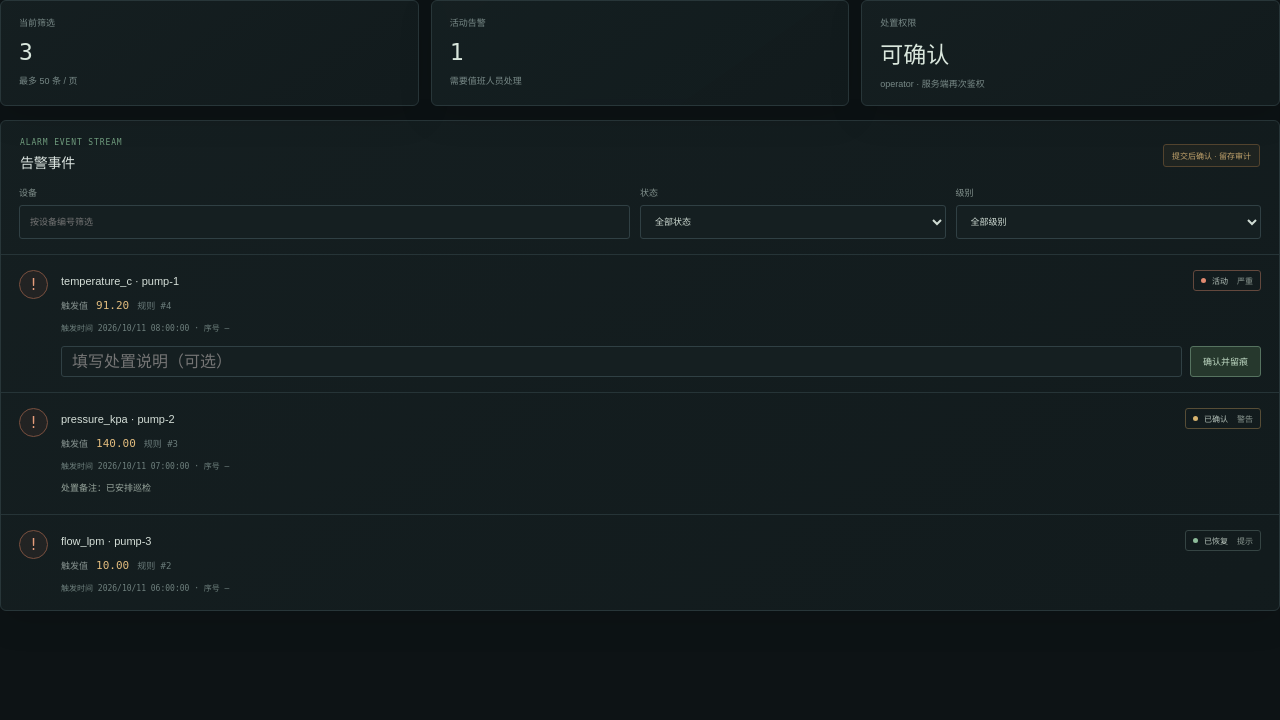
Scenario: alarm operations views › keeps the viewer read-only and presents server authorization failures
Click the button with aria-label "确认告警 17": (1226, 362) [1190,346,1261,377]
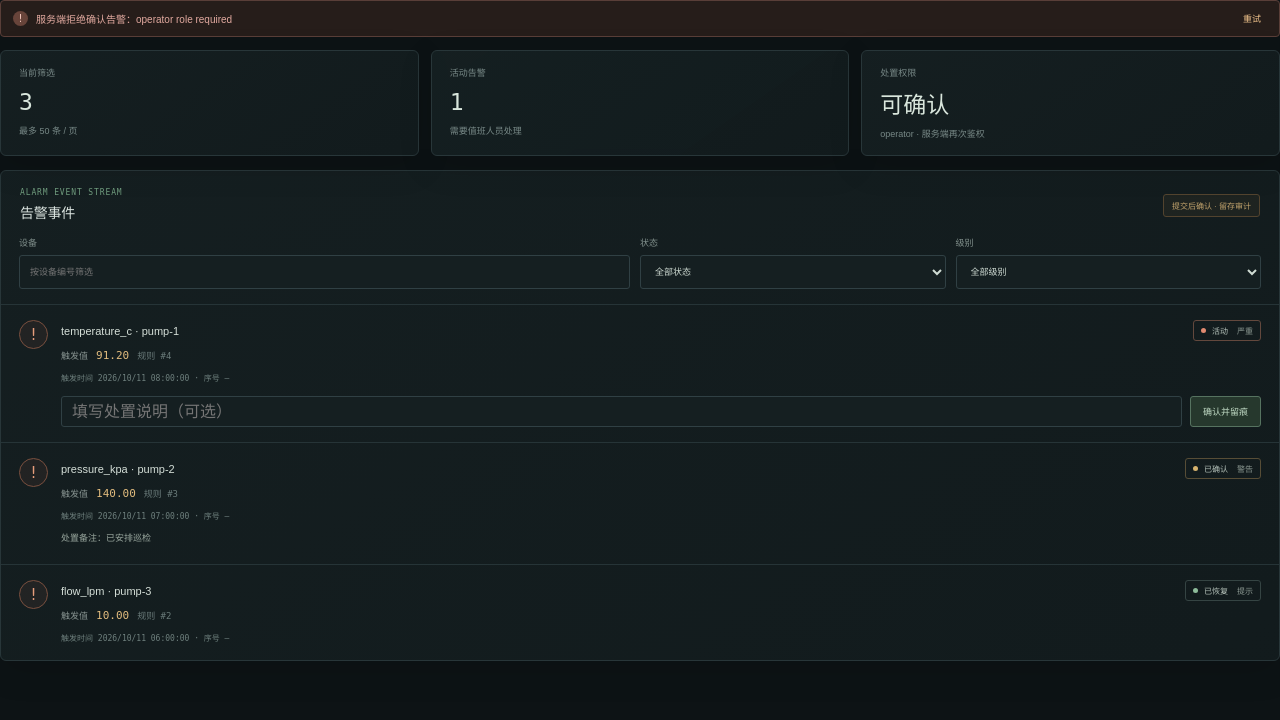
Result: the message "! 服务端拒绝确认告警：operator role required 重试" is shown at [0,0,1279,37]
